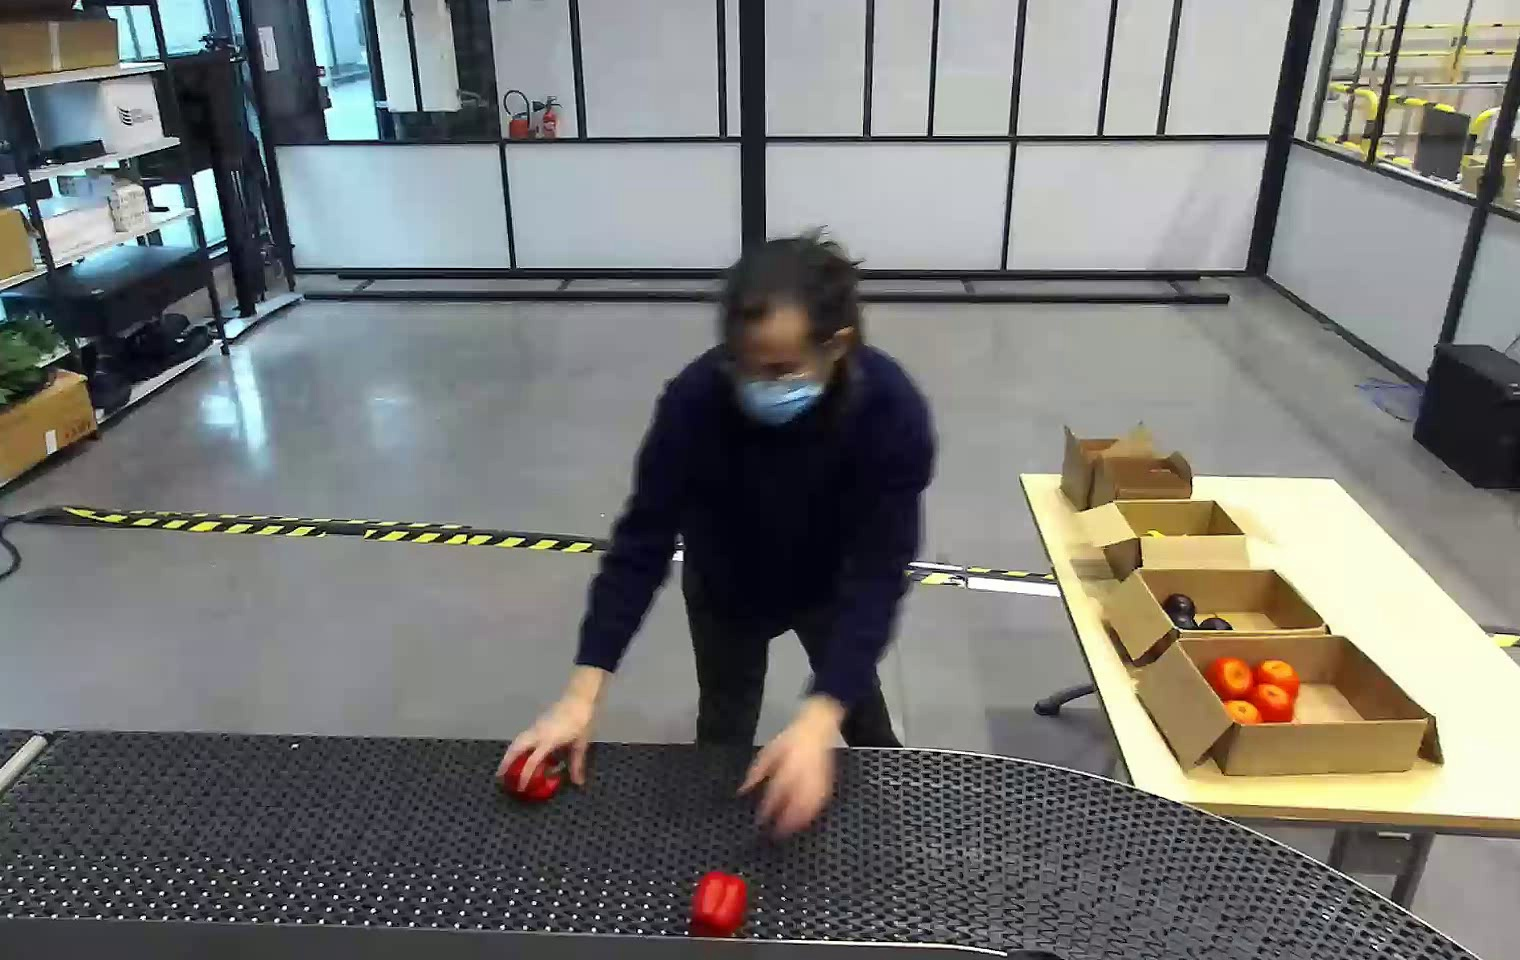Main droite: (1069, 629, 1165, 705)
